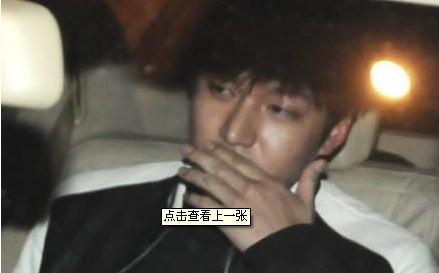face: (185, 48, 322, 206)
